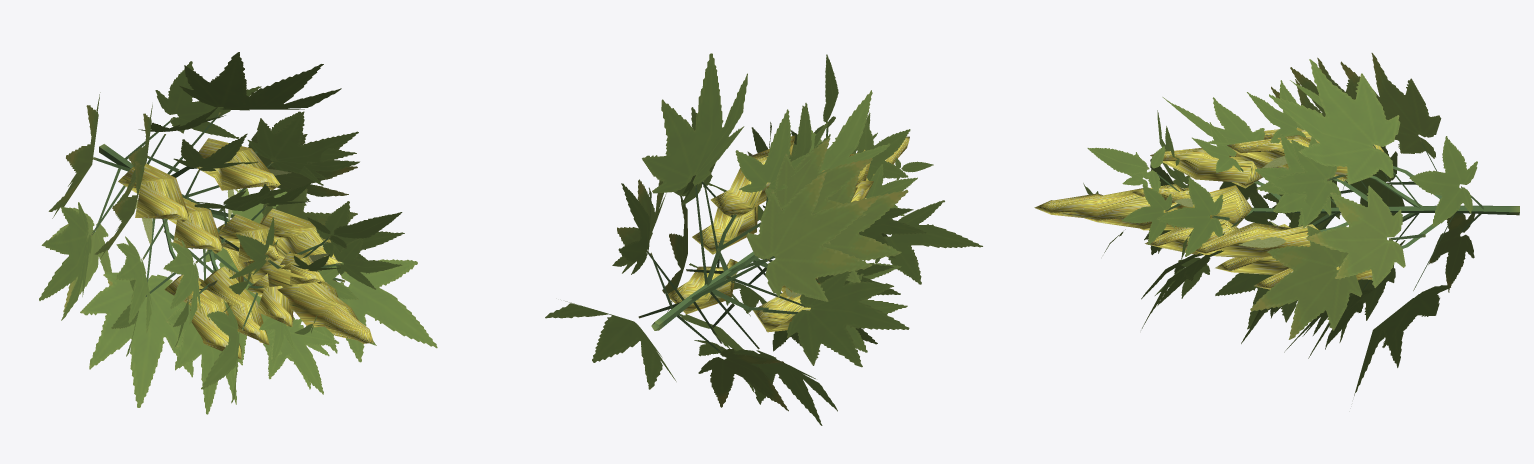
File: p_gold_tree_ripe_c0_cards.obj
3 views of the same model, side by side, from view 1: azimuth 30°, elevation 25°; view 2: azimuth 150°, elevation 25°; view 3: azimuth 270°, elevation 25° (orthographic). The views are drawn at different scales.
Size of the model in its own units: 1.32 by 1.28 by 1.45.
1 material, 1 textured.
